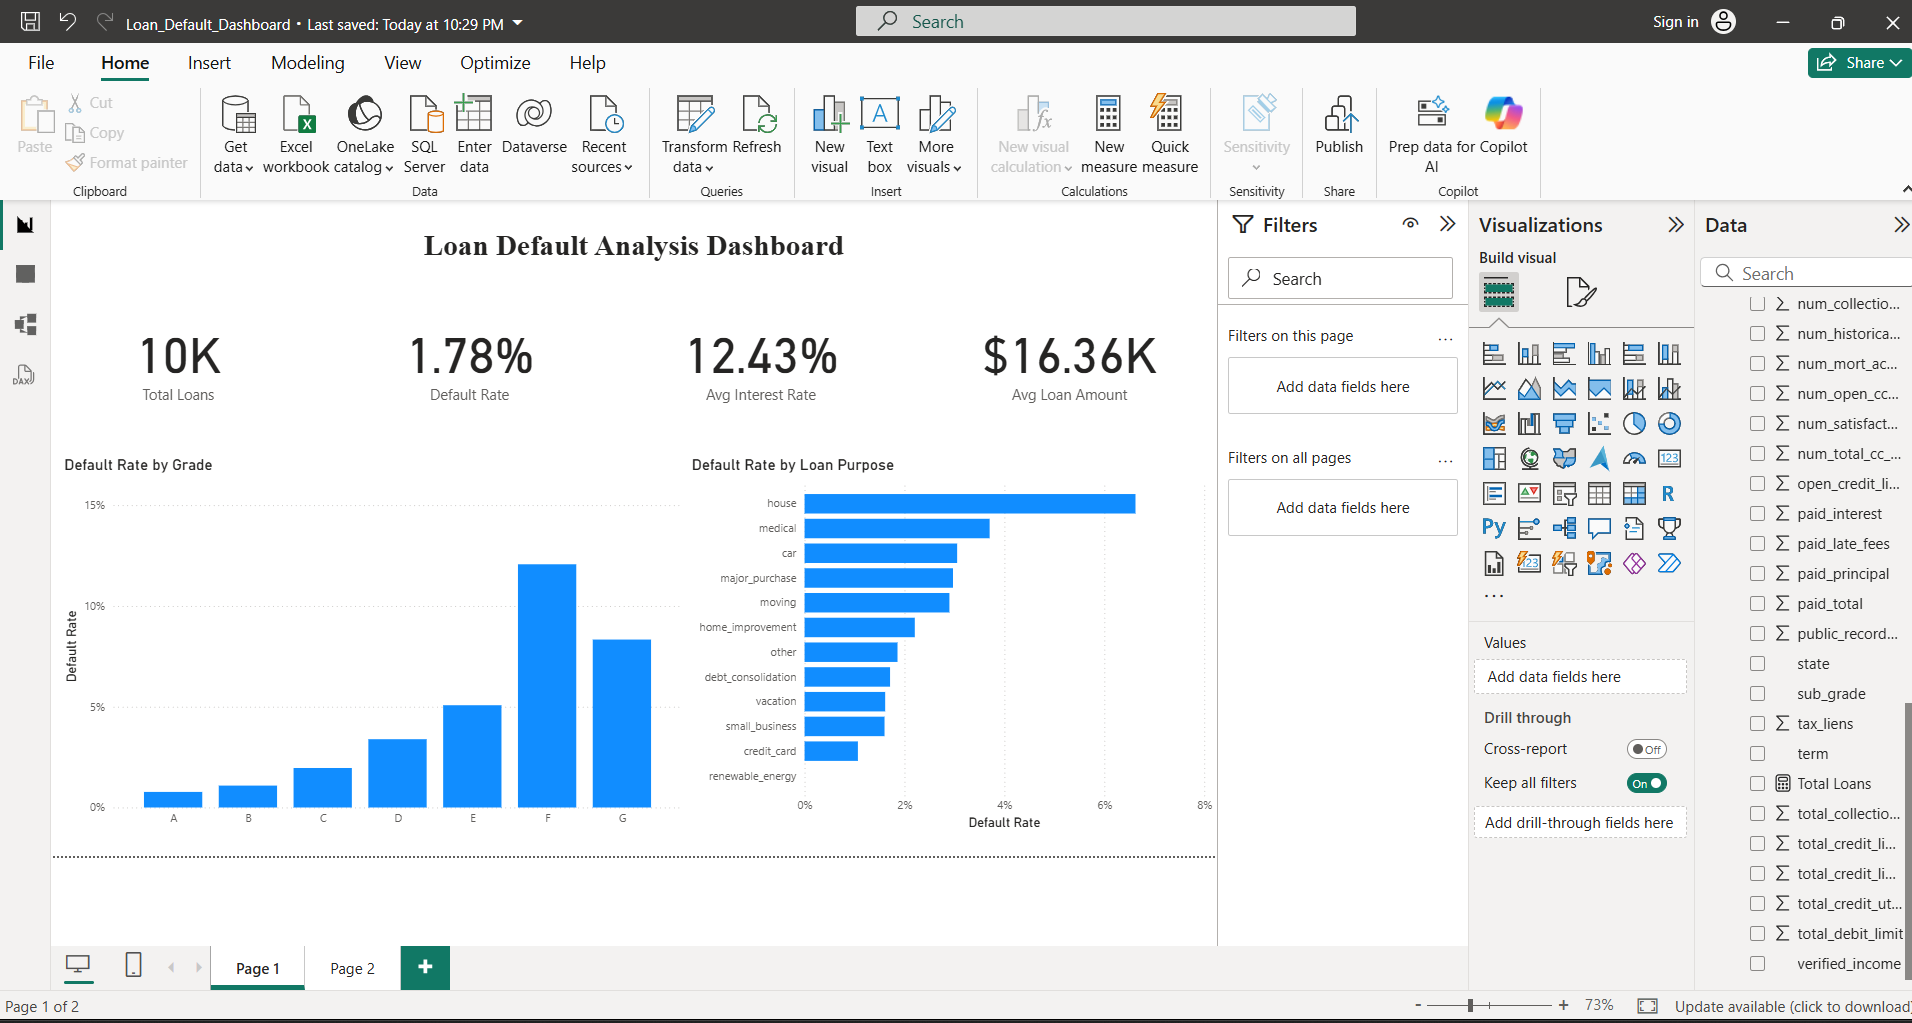

Layout of this report page (visuals, bound fields, positions):
{"tool":"powerbi","page":{"name":"Page 1","canvas":[1280,720],"ordinal":0},"visuals":[{"type":"card","fields":{"Values":["cleaned_loan_data.Total Loans"]},"box":[0,70,280,210],"z":0},{"type":"card","fields":{"Values":["cleaned_loan_data.Default Rate"]},"box":[320,70,280,210],"z":1000},{"type":"card","fields":{"Values":["cleaned_loan_data.Avg Interest Rate"]},"box":[640,70,280,210],"z":2000},{"type":"card","fields":{"Values":["cleaned_loan_data.Avg Loan Amount"]},"box":[978,70,280,210],"z":3000},{"type":"clusteredColumnChart","title":"Default Rate by Grade","fields":{"Category":["cleaned_loan_data.grade"],"Y":["cleaned_loan_data.Default Rate"]},"box":[9.6,279.9,688.9,417.2],"z":4000},{"type":"clusteredBarChart","title":"Default Rate by Loan Purpose","fields":{"Category":["cleaned_loan_data.loan_purpose"],"Y":["cleaned_loan_data.Default Rate"]},"box":[698.5,279.9,581.8,417.2],"z":5000},{"type":"textbox","box":[0,26,1280,72],"z":6000}]}

Visuals, with their boxes on the page's 1280x720 design canvas (x1, y1, x2, y2). These are canvas units, not pixel positions in the 1912x1023 screenshot, which may show the page scaled, cropped or inside an application window:
card - cleaned_loan_data.Total Loans: 0:70:280:280
card - cleaned_loan_data.Default Rate: 320:70:600:280
card - cleaned_loan_data.Avg Interest Rate: 640:70:920:280
card - cleaned_loan_data.Avg Loan Amount: 978:70:1258:280
"Default Rate by Grade" clusteredColumnChart: 10:280:698:697
"Default Rate by Loan Purpose" clusteredBarChart: 698:280:1280:697
textbox: 0:26:1280:98
